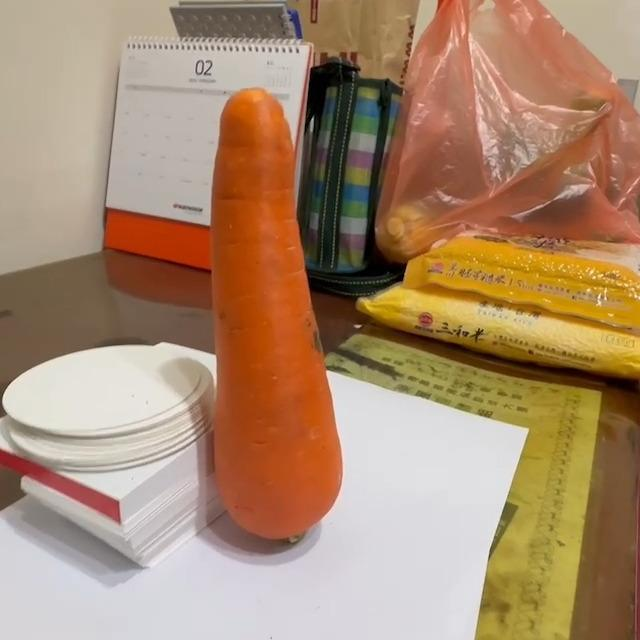carrot: (211, 86, 346, 544)
